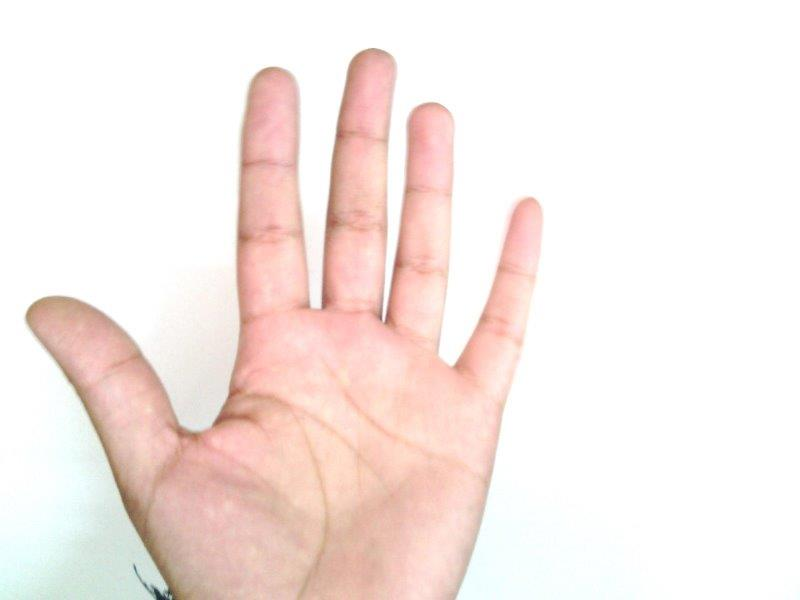hand: (27, 49, 544, 595)
